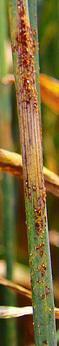Wheat: (11, 3, 49, 234)
